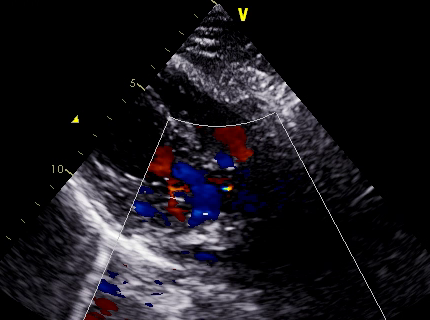AR: (160, 158, 249, 214)
